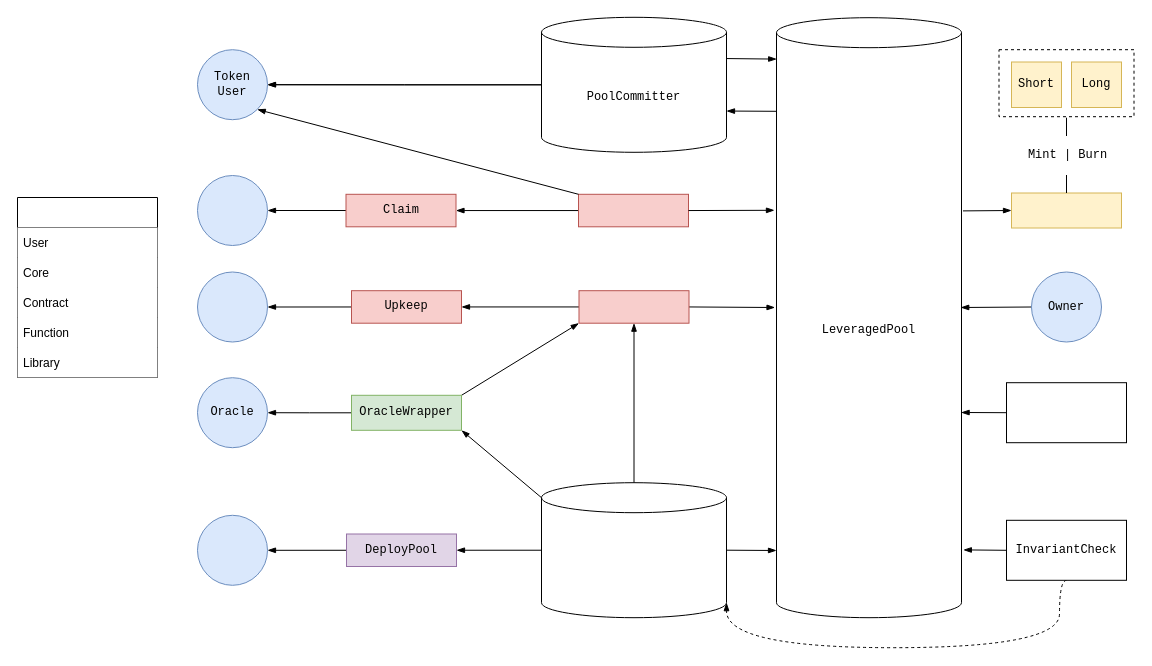
The diagram is 1152 pixels wide and 666 high, and some of its shapes have lost their labels. The shapes that lost their labels are listed below. From the top down, each one's box as (x1, y1, x2, y2) in pixels, then its label:
(196, 174, 268, 246): Claimer
(578, 193, 688, 227): AutoClaim
(1010, 192, 1122, 228): PoolToken
(16, 196, 158, 378): Index
(196, 271, 268, 342): Keeper
(578, 290, 689, 323): PoolKeeper
(1006, 382, 1126, 443): PoolSwapLibrary
(196, 514, 268, 585): Deployer
(540, 482, 726, 618): PoolFactory
